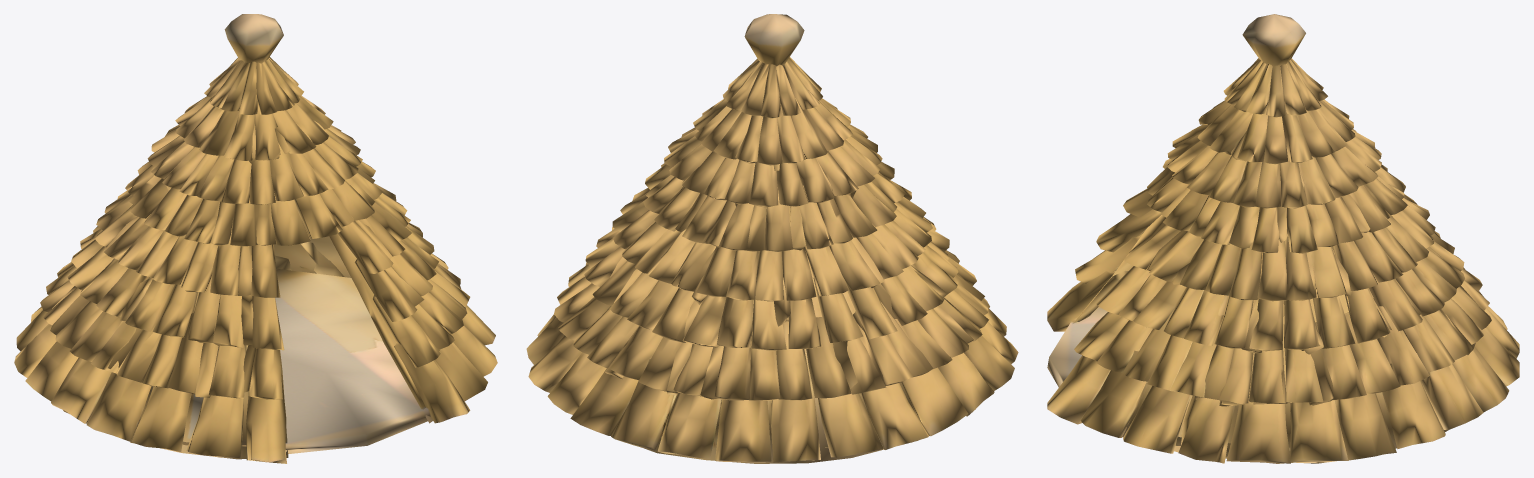
File: Meshy_AI_Wooden_Shingled_Teepe_0807100534_texture.fbx
3 views of the same model, side by side, from view 1: azimuth 30°, elevation 25°; view 2: azimuth 150°, elevation 25°; view 3: azimuth 270°, elevation 25° (orthographic).
Parts seen in each view (by area): view 1: mesh_node; view 2: mesh_node; view 3: mesh_node.
Boxes of the visible parts, x1,y1,x2,y2 form: mesh_node: (14, 14, 497, 463); mesh_node: (526, 14, 1018, 463); mesh_node: (1047, 14, 1519, 463).
Size of the model in its own units: 239 by 200 by 239.
Materials: 1 (1 with a texture image).
